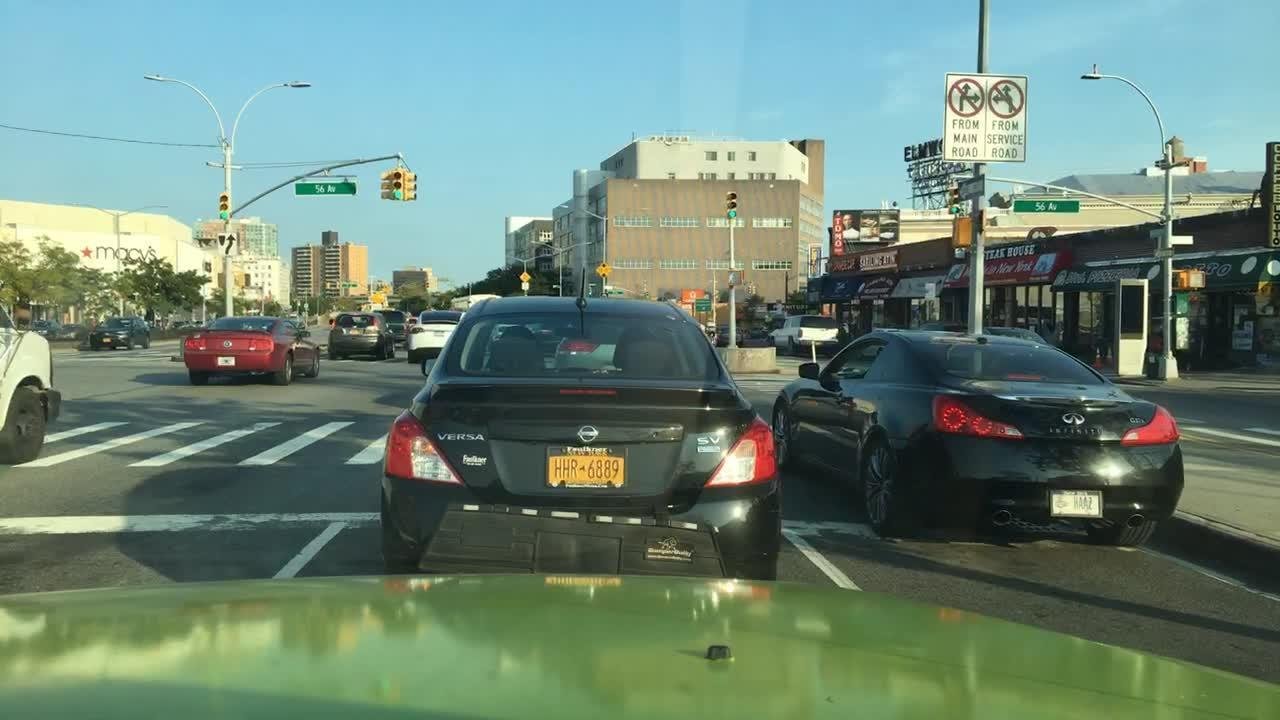Infiniti: (1060, 410, 1091, 427)
Nissan: (572, 419, 604, 447)
